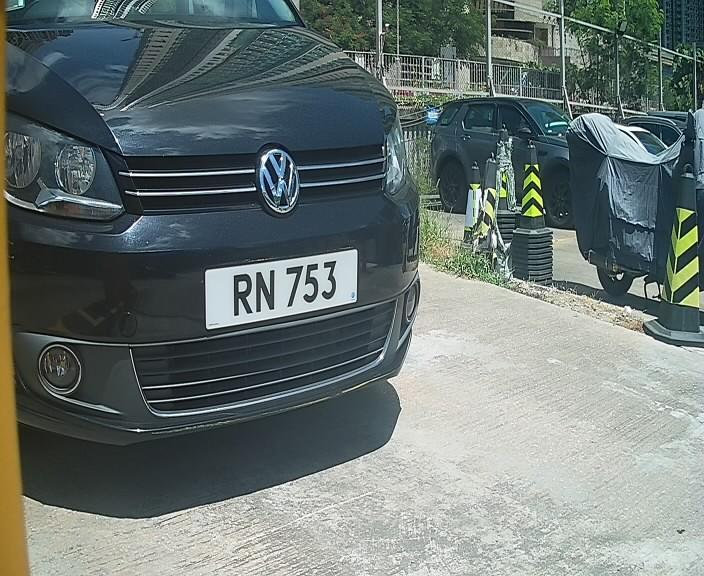License Plate: (198, 247, 359, 332)
